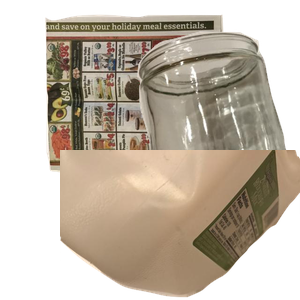glass: (135, 29, 300, 209)
paper: (42, 12, 260, 185)
plastic: (60, 150, 300, 300)
trash: (99, 155, 268, 300)
